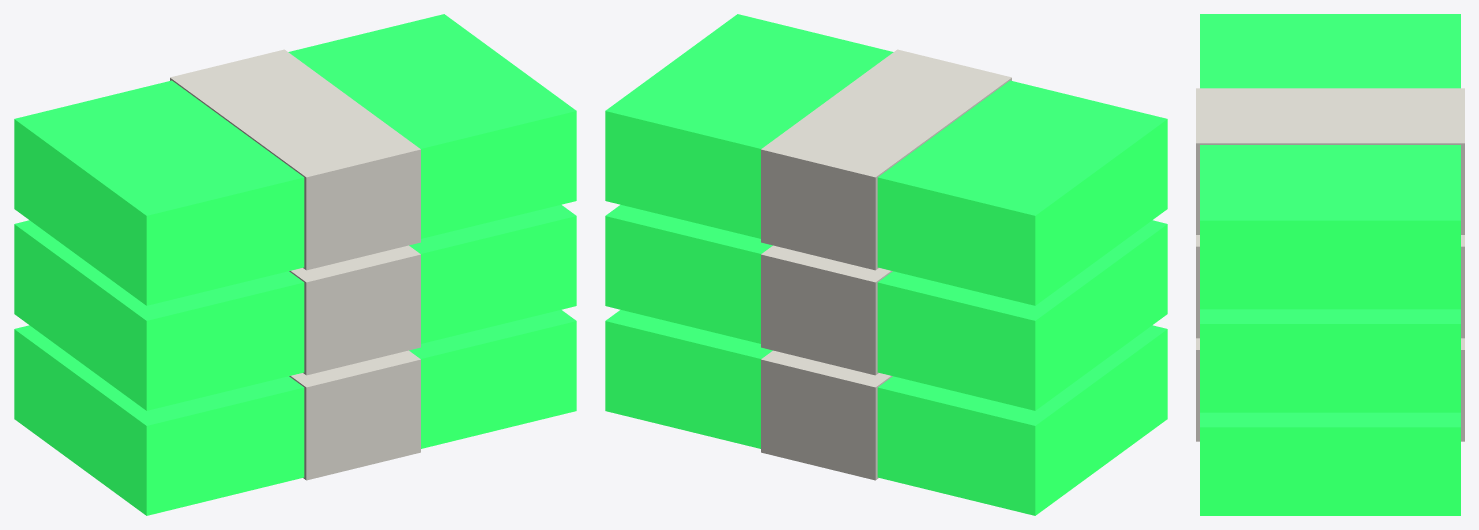
File: pickup_cash.glb
The picture shows the model from 3 angles, left to right: view 1: azimuth 30°, elevation 25°; view 2: azimuth 150°, elevation 25°; view 3: azimuth 270°, elevation 25°; orthographic projection.
Parts seen in each view (by area): view 1: pickup_cash_Body; view 2: pickup_cash_Body; view 3: pickup_cash_Body.
Boxes of the visible parts, box(x1,y1,x2,y2) form: pickup_cash_Body: box(14, 14, 576, 515); pickup_cash_Body: box(605, 14, 1167, 515); pickup_cash_Body: box(1196, 14, 1464, 515).
Bounding box in the file's own units: 0.3 × 0.202 × 0.165.
